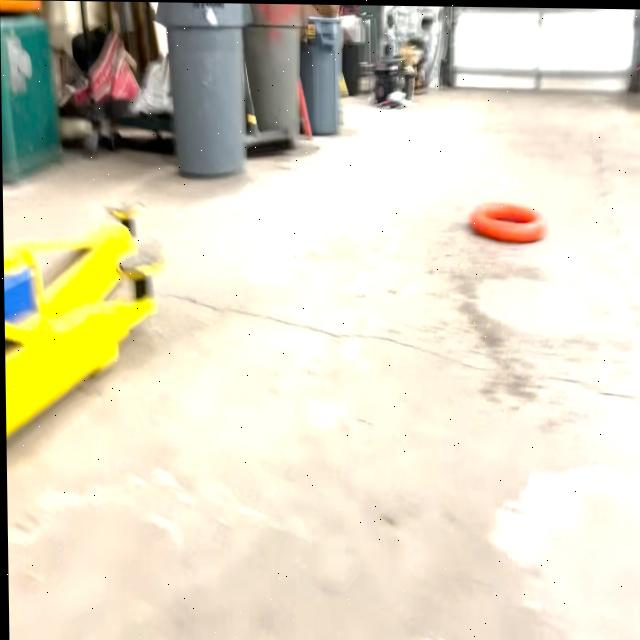note: (465, 193, 548, 246)
